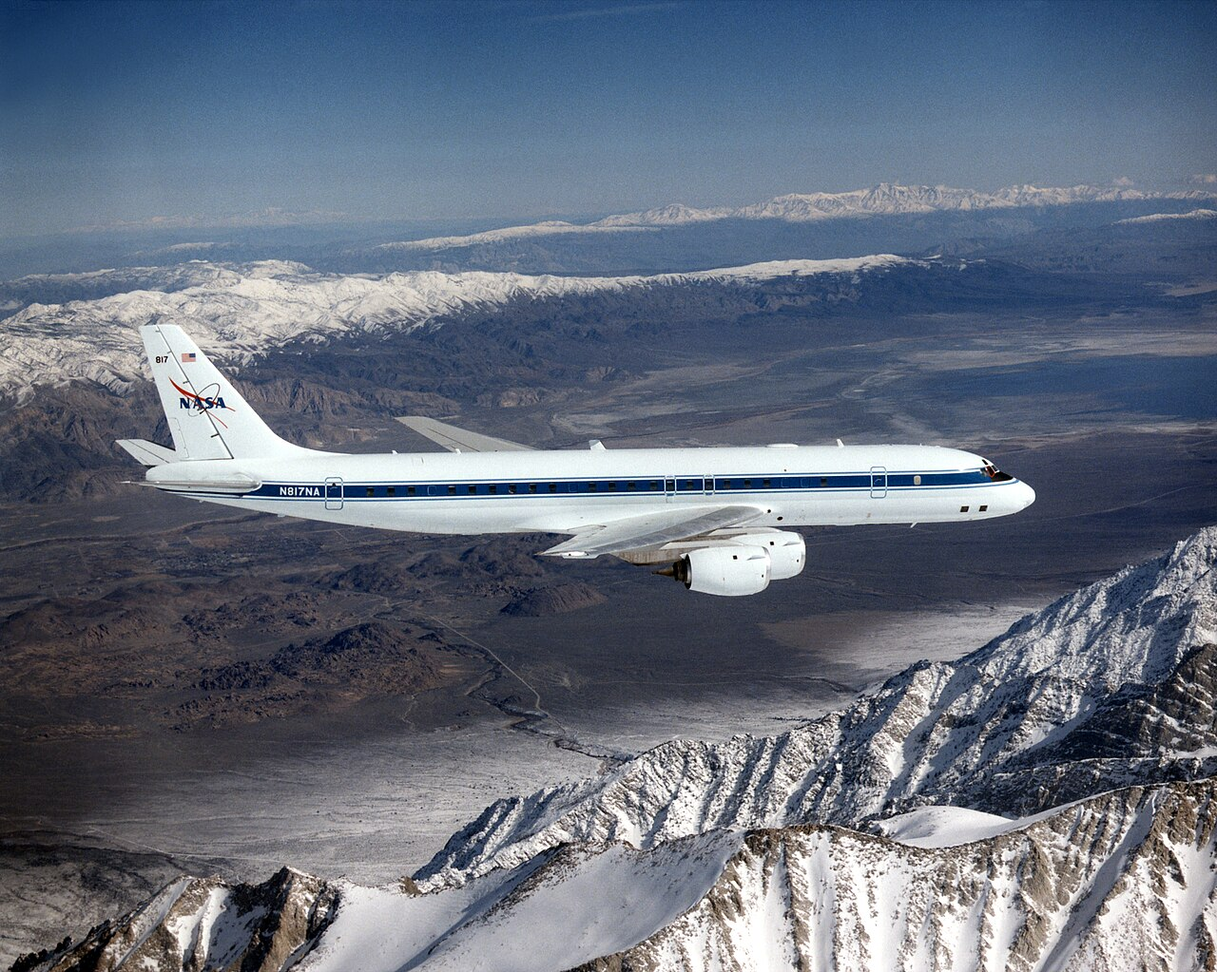aircraft: (113, 323, 1037, 598)
